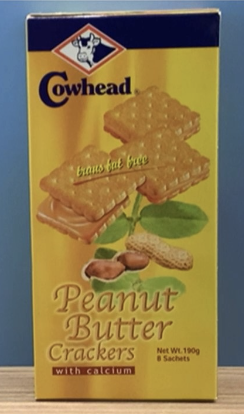crackers_100g-199g: (36, 36, 208, 387)
